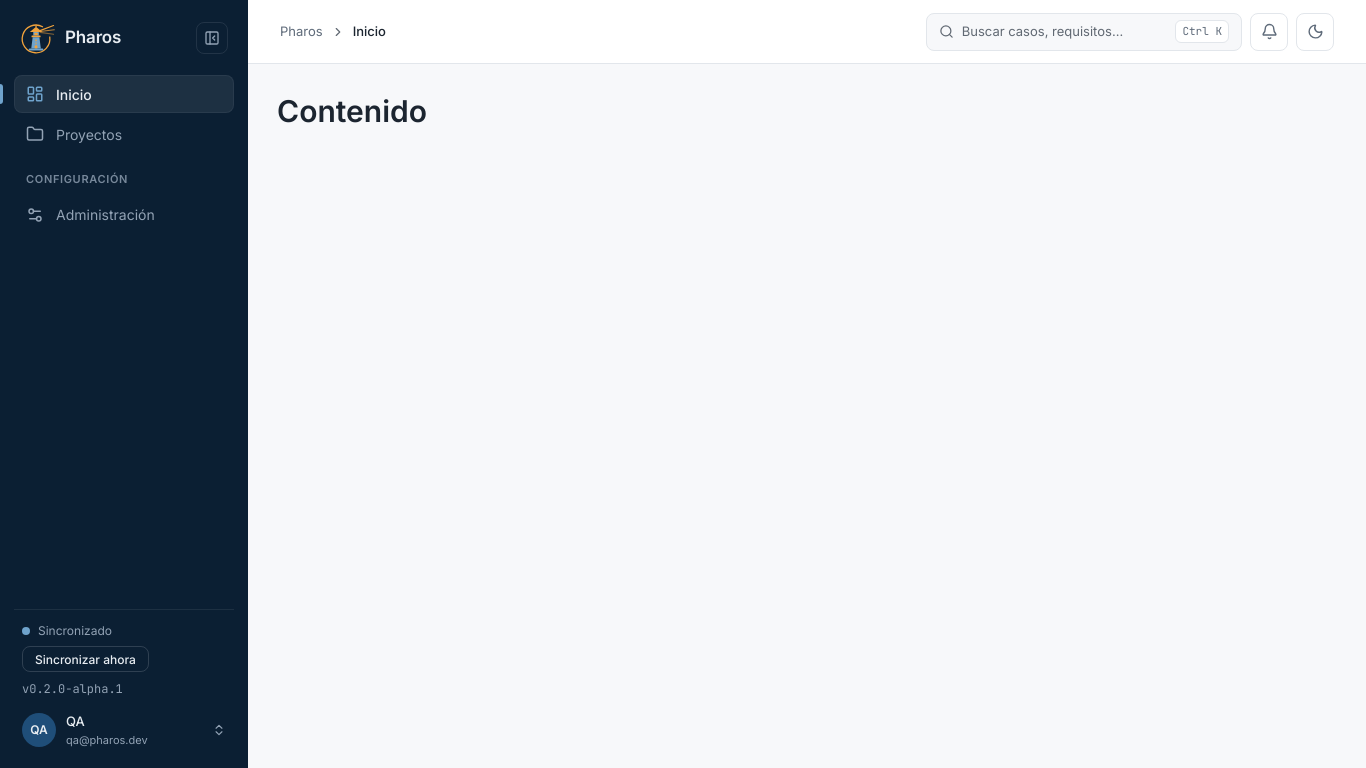
Scenario: AppShell (SPEC §2/§7) › desktop (≥ 1280 px) › the bell opens the notifications placeholder
The width and height of the screenshot is (1366, 768).
Click the button with test id "notifications-trigger" at (1269, 32), box [1250, 12, 1288, 50]
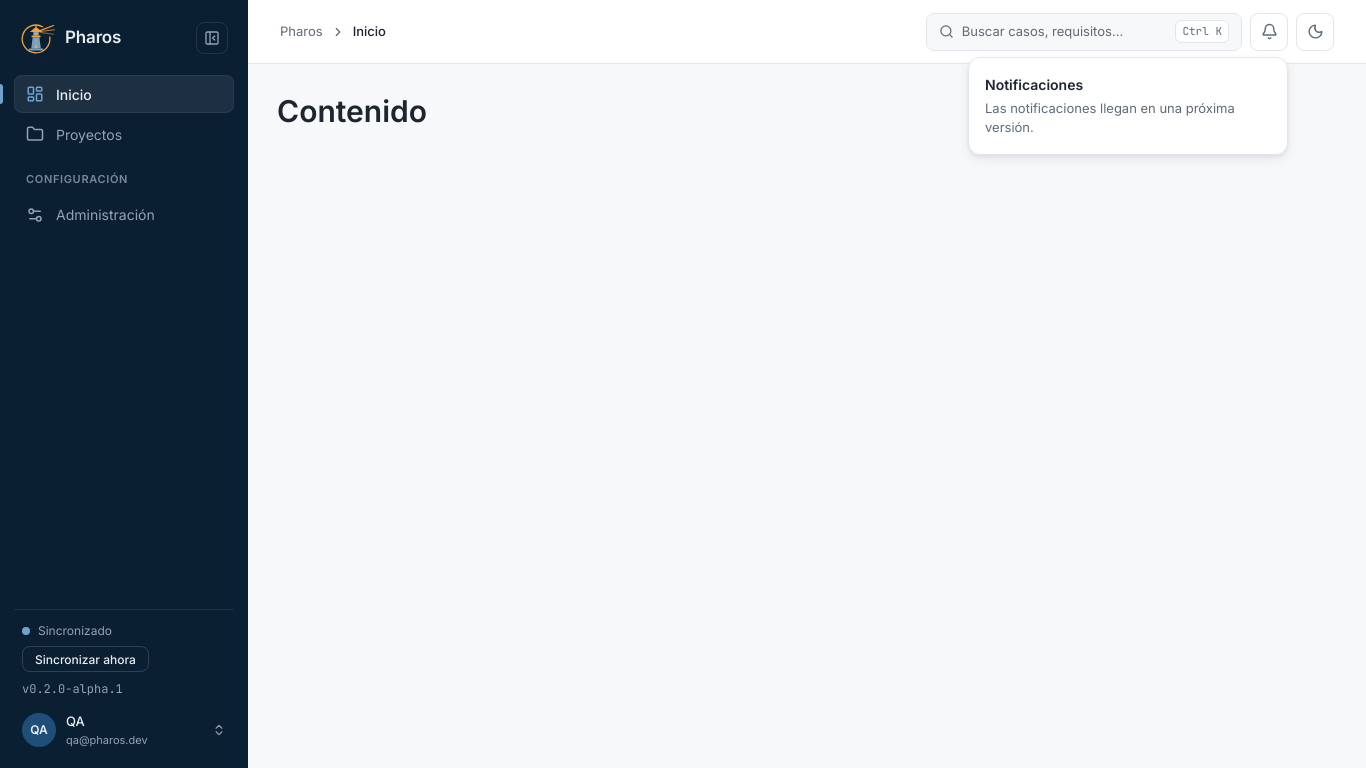
Expected: the dialog "Notificaciones" is shown, [968, 56, 1288, 154]
